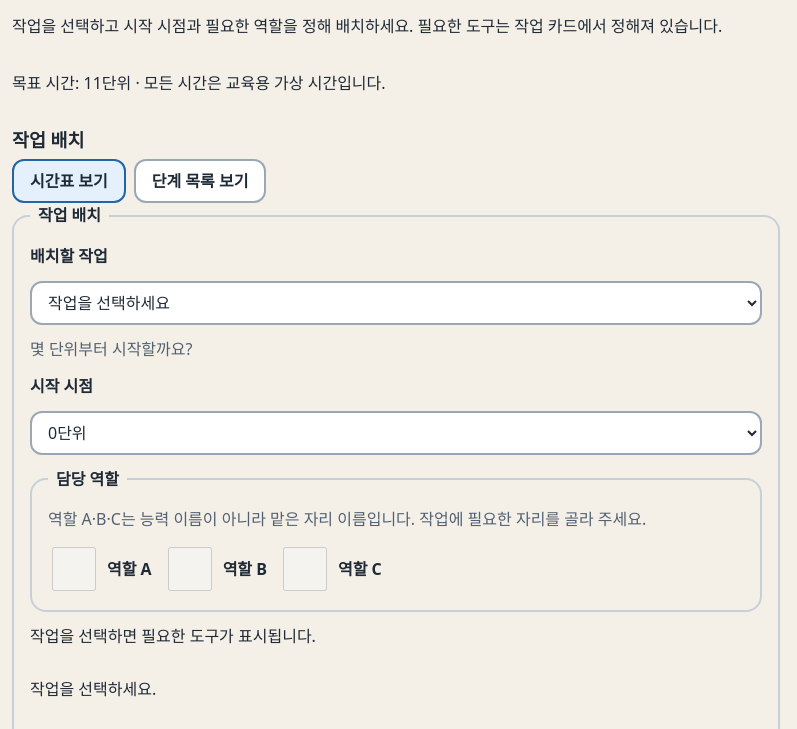
Test: keyboard-first schedule editor › requires exactly the task's people count and announces remaining roles
The width and height of the screenshot is (797, 729).
Select "글과 그림 부착" in the dropdown labelled "배치할 작업" at x=396, y=303, box [30,281,762,325]
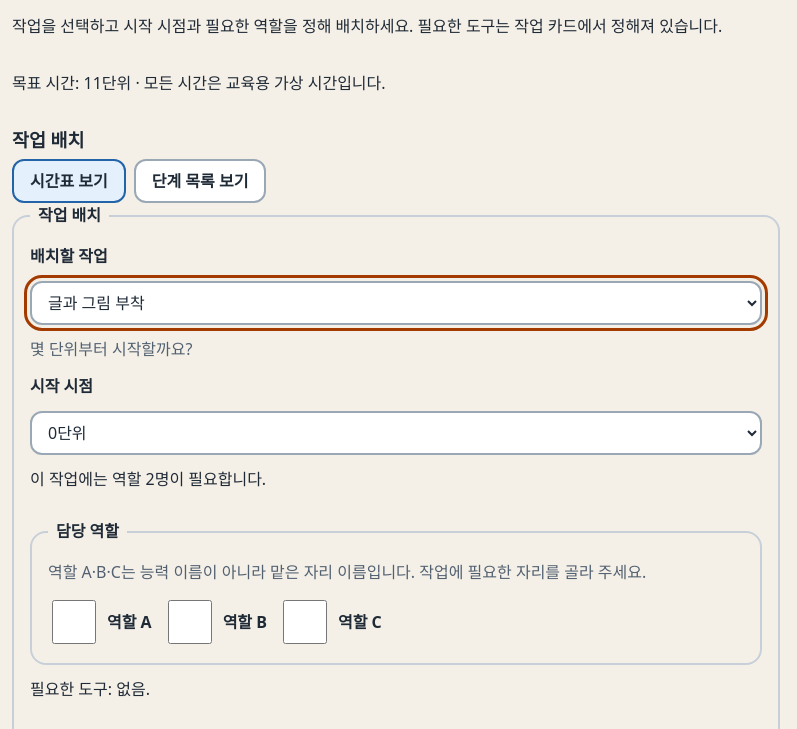
Now the text "이 작업에는 역할 2명이 필요합니다." is shown, box [30,468,266,490]
Click the checkbox labelled "역할 A".
click(74, 622)  # box [52,600,96,644]
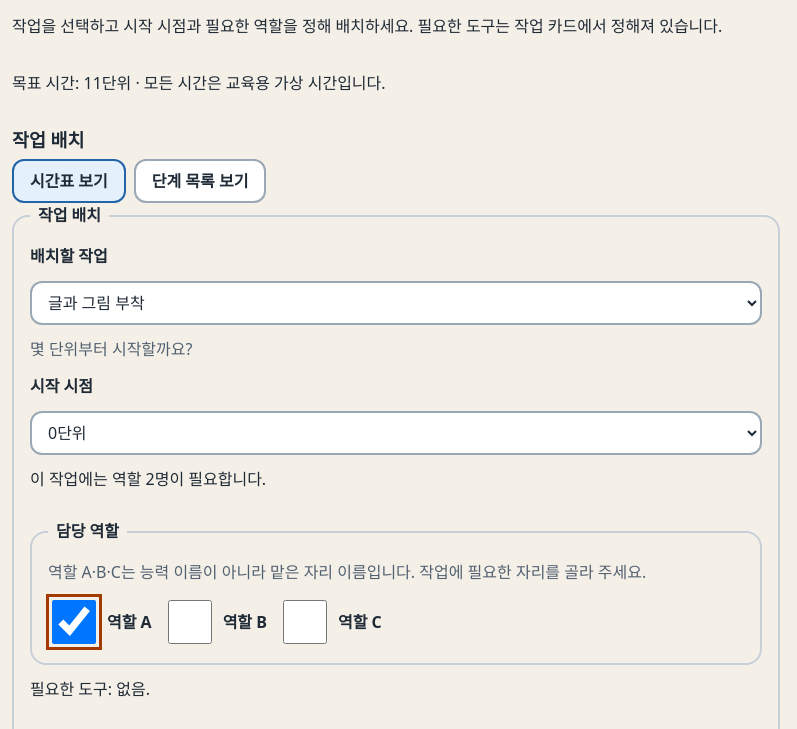
Click the checkbox labelled "역할 B".
click(190, 622)  # box [168,600,212,644]
(page scrolled)
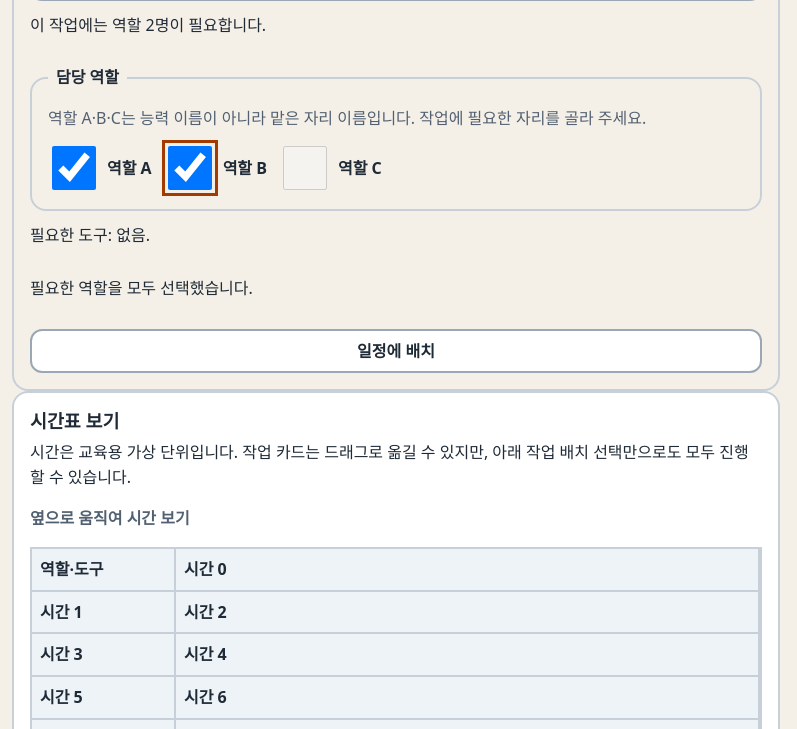
Now the button "일정에 배치" is enabled, box [30,328,762,373]
